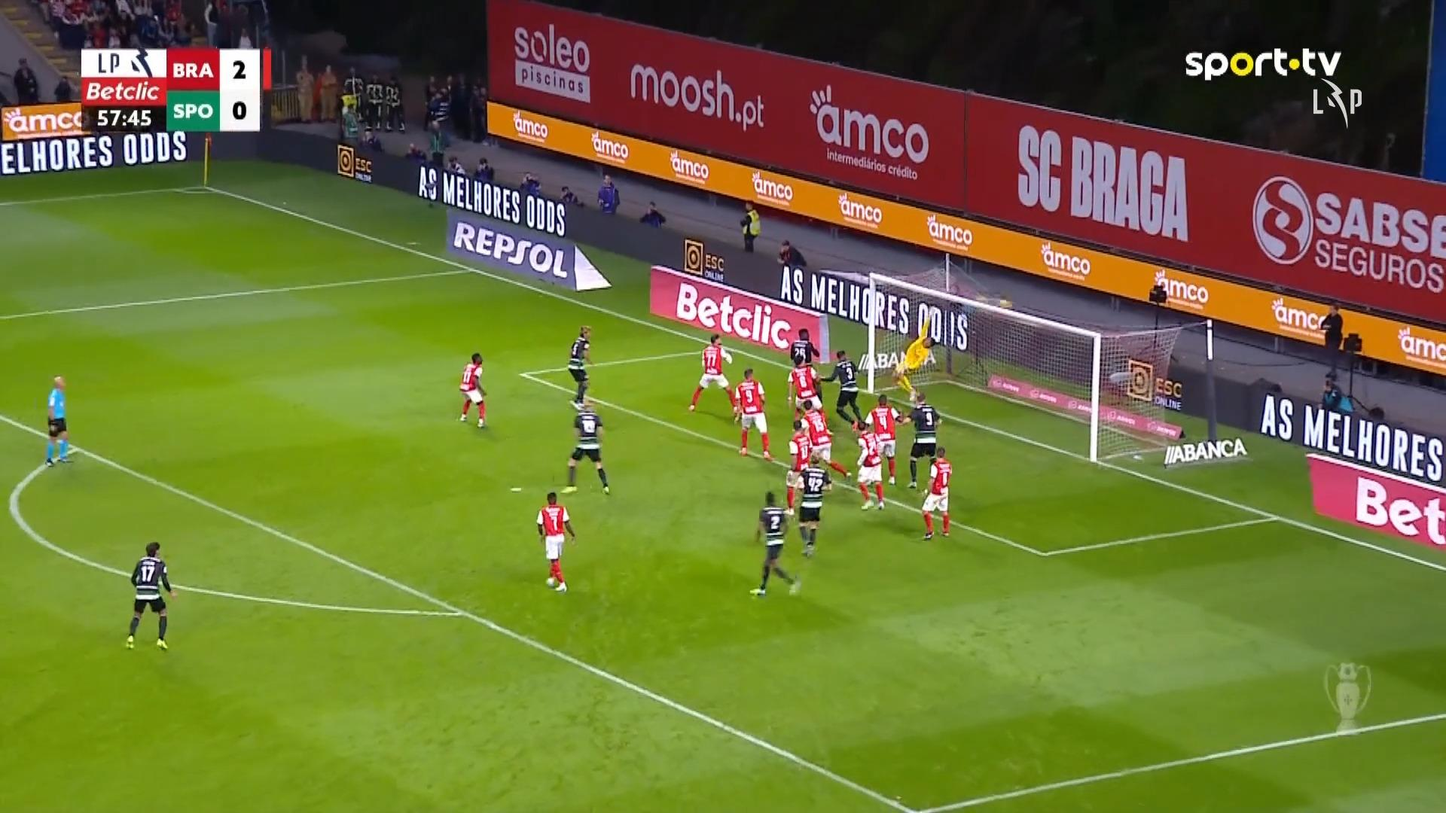ball: (999, 300, 1013, 308)
goalkeeper: (891, 313, 938, 402)
player: (124, 540, 178, 650), (749, 489, 801, 596), (561, 397, 610, 495), (798, 397, 850, 479), (687, 331, 737, 416), (792, 451, 832, 556), (898, 391, 941, 488), (535, 491, 575, 592), (732, 367, 774, 461), (865, 392, 906, 486), (818, 349, 863, 430), (852, 418, 886, 510), (920, 446, 952, 540), (783, 420, 813, 514), (786, 353, 822, 430), (566, 324, 593, 409), (457, 352, 487, 428), (789, 327, 820, 373)
referee: (44, 375, 73, 466), (1319, 370, 1353, 413), (1319, 303, 1344, 349)
